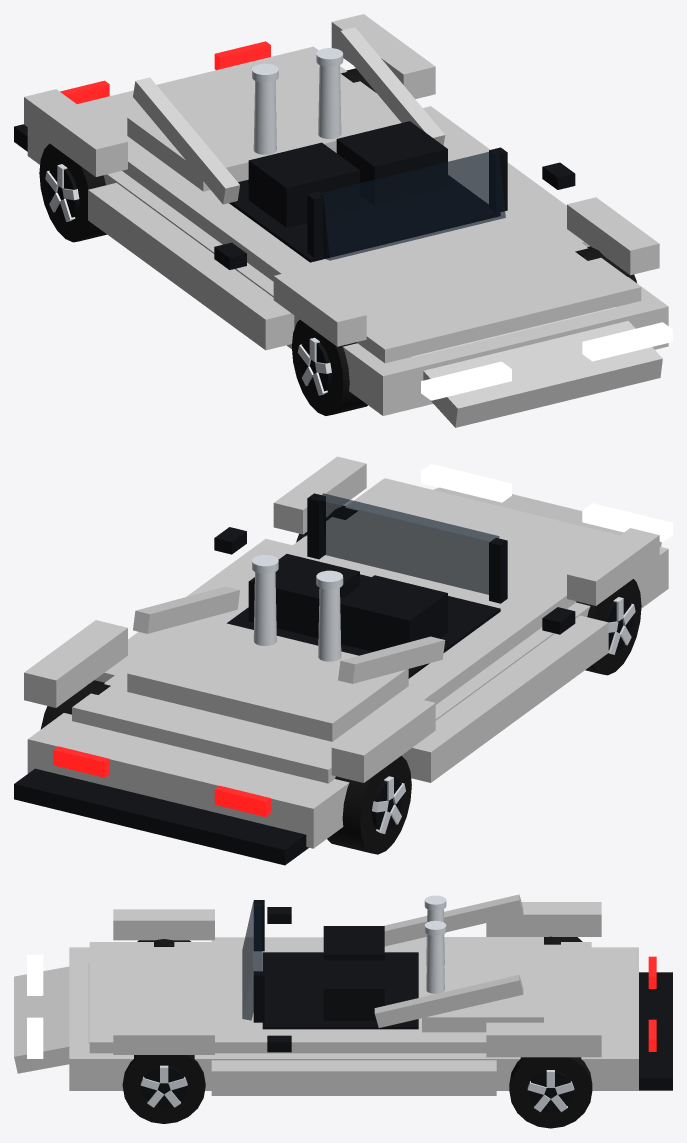
The model's file is porch-hellbender.glb.
3 renders of one model, top to bottom at view 1: azimuth 30°, elevation 25°; view 2: azimuth 150°, elevation 25°; view 3: azimuth 270°, elevation 25°, orthographic. The views are drawn at different scales.
Parts seen in each view (by area): view 1: chassis, glass, wheel-front-left, wheel-back-left; view 2: chassis, glass, wheel-back-left, wheel-front-left, wheel-back-right; view 3: chassis, wheel-back-right, wheel-front-right, glass.
Boxes of the visible parts, x1,y1,x2,y2 form: chassis: (14, 14, 672, 427); glass: (318, 151, 505, 260); wheel-front-left: (292, 320, 367, 415); wheel-back-left: (39, 143, 106, 242); chassis: (14, 456, 672, 865); glass: (318, 493, 499, 594); wheel-back-left: (327, 755, 411, 854); wheel-front-left: (576, 579, 641, 675); wheel-back-right: (40, 680, 110, 729); chassis: (14, 894, 672, 1095); wheel-back-right: (509, 1057, 592, 1128); wheel-front-right: (122, 1055, 205, 1123); glass: (242, 902, 262, 1020).
Size of the model in its own units: 2.36 by 1.24 by 4.86.
